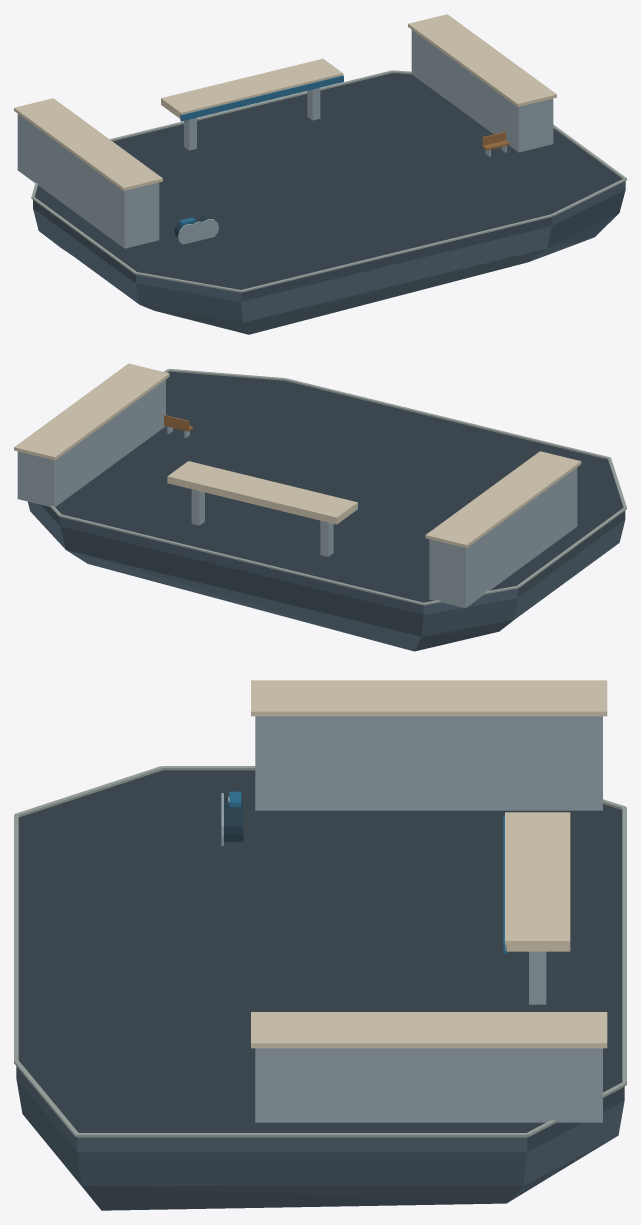
Rendered from fi04-rain-underpass.glb.
The picture shows the model from 3 angles, top to bottom: view 1: azimuth 30°, elevation 25°; view 2: azimuth 150°, elevation 25°; view 3: azimuth 270°, elevation 25°; orthographic projection. The views are drawn at different scales.
Parts seen in each view (by area): view 1: GEO_foundation, LAND_0_retaining, LAND_1_retaining, LAND_2_canopy, GEO_rim, LAND_3_reels; view 2: GEO_foundation, LAND_0_retaining, LAND_1_retaining, LAND_2_canopy, GEO_rim; view 3: GEO_foundation, LAND_0_retaining, LAND_1_retaining, LAND_2_canopy, GEO_rim, LAND_3_reels.
Part boxes in pixels (box(x1,y1,x2,y2)): GEO_foundation: box(33, 73, 625, 334); LAND_0_retaining: box(14, 98, 162, 248); LAND_1_retaining: box(408, 14, 556, 152); LAND_2_canopy: box(161, 58, 343, 150); GEO_rim: box(31, 70, 626, 292); LAND_3_reels: box(174, 217, 218, 244); GEO_foundation: box(28, 371, 625, 651); LAND_0_retaining: box(425, 451, 581, 608); LAND_1_retaining: box(14, 363, 169, 506); LAND_2_canopy: box(167, 461, 358, 556); GEO_rim: box(50, 368, 626, 605); GEO_foundation: box(16, 770, 624, 1210); LAND_0_retaining: box(251, 680, 607, 810); LAND_1_retaining: box(251, 1012, 607, 1122); LAND_2_canopy: box(503, 812, 570, 1004); GEO_rim: box(14, 766, 626, 1137); LAND_3_reels: box(221, 793, 243, 845).
Size of the model in its own units: 40.22 by 9.82 by 28.22.
